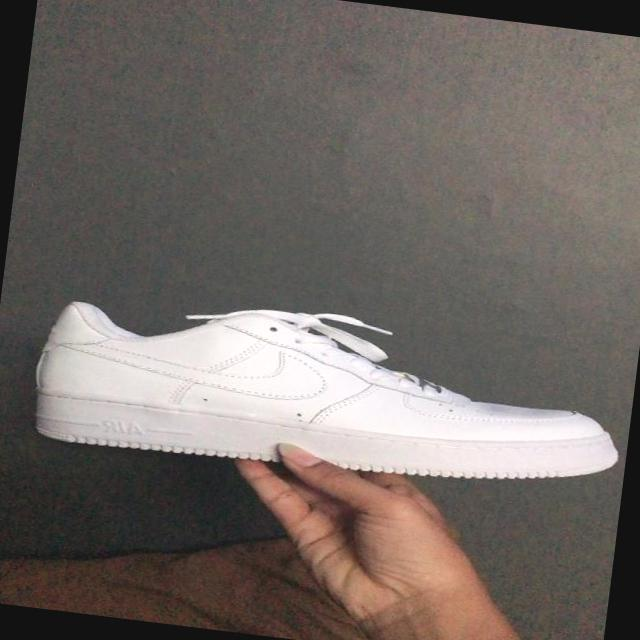nike_fake_airforce: (20, 284, 632, 509)
